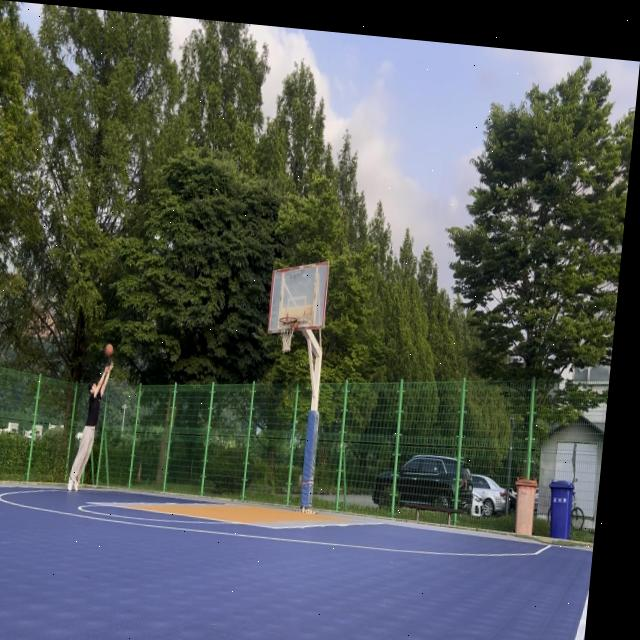basketball: (103, 343, 115, 360)
hoop: (276, 316, 298, 355)
